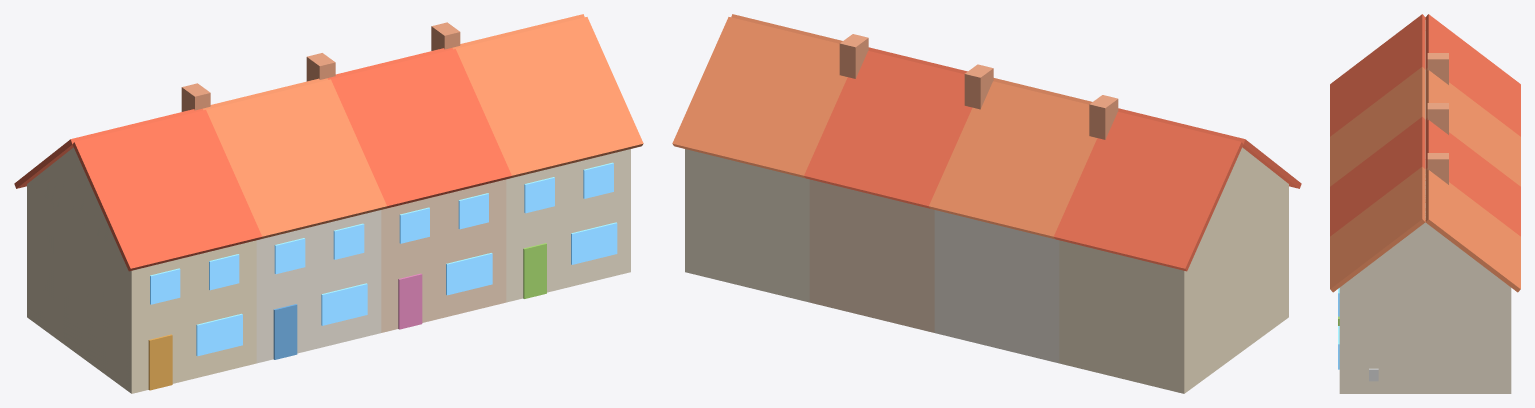
File: Load-Residential-terraced.glb
The picture shows the model from 3 angles, left to right: view 1: azimuth 30°, elevation 25°; view 2: azimuth 150°, elevation 25°; view 3: azimuth 270°, elevation 25°; orthographic projection. The views are drawn at different scales.
Parts seen in each view (by area): view 1: roof_front (×4), walls (×4), window (×12), door (×4), gable, chimney (×3), roof_back (×2); view 2: walls (×4), roof_back (×4), gable, chimney (×3), roof_front; view 3: roof_front (×4), roof_back (×4), walls, gable, chimney (×3).
Boxes of the visible parts, x1,y1,x2,y2 form: roof_front (×4): (72, 17, 643, 271); walls (×4): (27, 149, 630, 393); window (×12): (150, 162, 617, 356); door (×4): (148, 243, 546, 390); gable: (27, 147, 120, 252); chimney (×3): (181, 22, 460, 111); roof_back (×2): (14, 14, 584, 188); walls (×4): (685, 149, 1288, 393); roof_back (×4): (672, 17, 1243, 271); gable: (1195, 147, 1288, 252); chimney (×3): (839, 34, 1118, 139); roof_front: (1118, 108, 1301, 188); roof_front (×4): (1330, 14, 1425, 292); roof_back (×4): (1425, 14, 1520, 292); walls: (1339, 285, 1511, 393); gable: (1343, 170, 1507, 284); chimney (×3): (1427, 53, 1448, 184).
Size of the model in its own units: 22.6 by 9.66 by 8.88.
